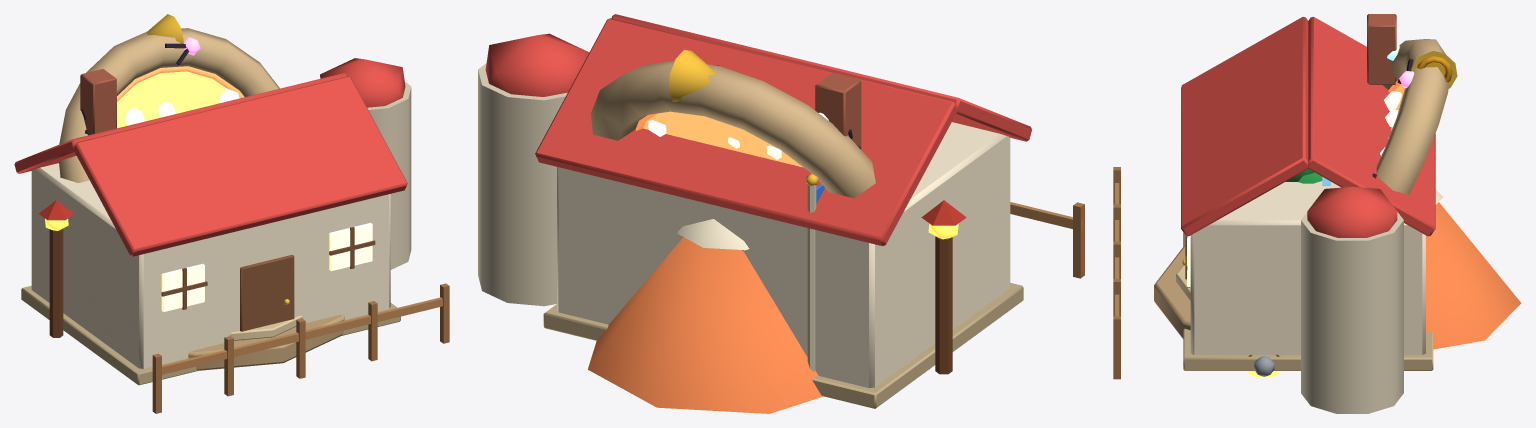
The model's file is rescue.glb.
3 views of the same model, side by side, from view 1: azimuth 30°, elevation 25°; view 2: azimuth 150°, elevation 25°; view 3: azimuth 270°, elevation 25° (orthographic). The views are drawn at different scales.
Visible parts, largest first — view 1: rs_farmhouse_body, rs_portal_body, rs_portal_swirl_body; view 2: rs_farmhouse_body, rs_camp_body, rs_portal_body, rs_portal_swirl_body; view 3: rs_farmhouse_body, rs_portal_body, rs_camp_body, rs_portal_swirl_body.
Boxes of the visible parts, x1,y1,x2,y2 form: rs_farmhouse_body: [14, 58, 449, 413]; rs_portal_body: [39, 14, 344, 370]; rs_portal_swirl_body: [117, 71, 239, 128]; rs_farmhouse_body: [478, 14, 1084, 408]; rs_camp_body: [588, 174, 824, 413]; rs_portal_body: [590, 50, 966, 374]; rs_portal_swirl_body: [643, 111, 803, 167]; rs_farmhouse_body: [1113, 14, 1435, 413]; rs_portal_body: [1154, 39, 1457, 338]; rs_camp_body: [1246, 189, 1521, 376]; rs_portal_swirl_body: [1380, 84, 1404, 155].
Bounding box in the file's own units: 6.14 × 4.32 × 5.55.
